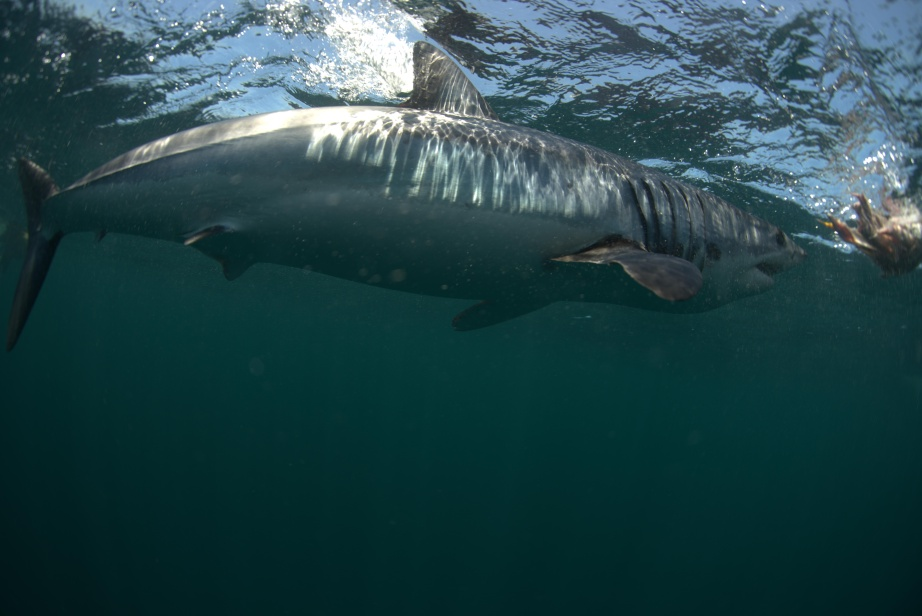Mako: (1, 30, 821, 358)
